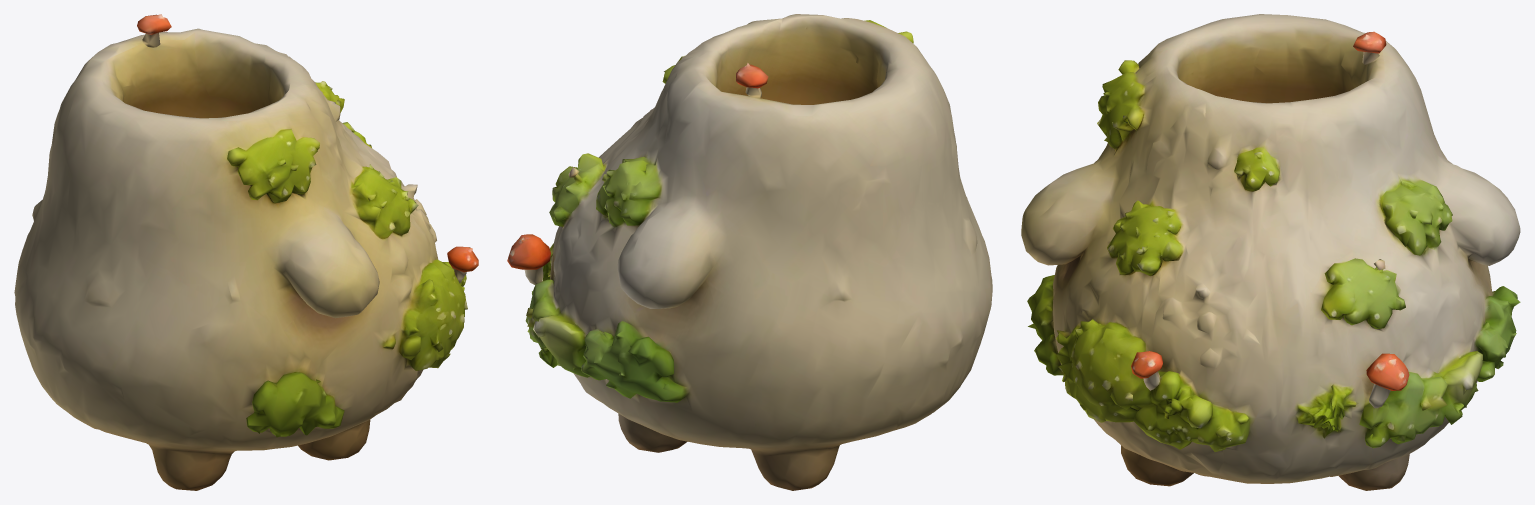
File: body.glb
3 views of the same model, side by side, from view 1: azimuth 30°, elevation 25°; view 2: azimuth 150°, elevation 25°; view 3: azimuth 270°, elevation 25° (orthographic). The views are drawn at different scales.
Visible parts, largest first — view 1: tripo_node_088e9c44-d925-4108-8b8b-176a008a4466; view 2: tripo_node_088e9c44-d925-4108-8b8b-176a008a4466; view 3: tripo_node_088e9c44-d925-4108-8b8b-176a008a4466.
Part boxes in pixels (bbox=[...]): tripo_node_088e9c44-d925-4108-8b8b-176a008a4466: bbox=[14, 14, 478, 490]; tripo_node_088e9c44-d925-4108-8b8b-176a008a4466: bbox=[507, 14, 992, 490]; tripo_node_088e9c44-d925-4108-8b8b-176a008a4466: bbox=[1021, 14, 1520, 490].
Size of the model in its own units: 0.9485 by 0.8886 by 1.
Materials: 1 (1 with a texture image).
